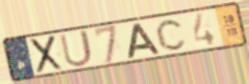4: (193, 11, 217, 47)
7: (92, 22, 121, 65)
A: (127, 21, 162, 60)
C: (155, 18, 189, 52)
U: (58, 28, 95, 69)
X: (29, 33, 65, 75)
